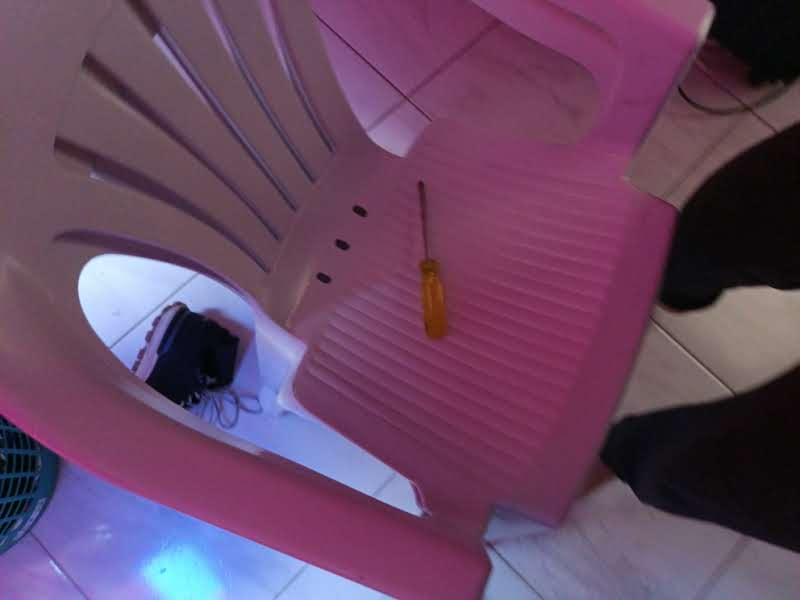Destornillador: (417, 179, 447, 338)
